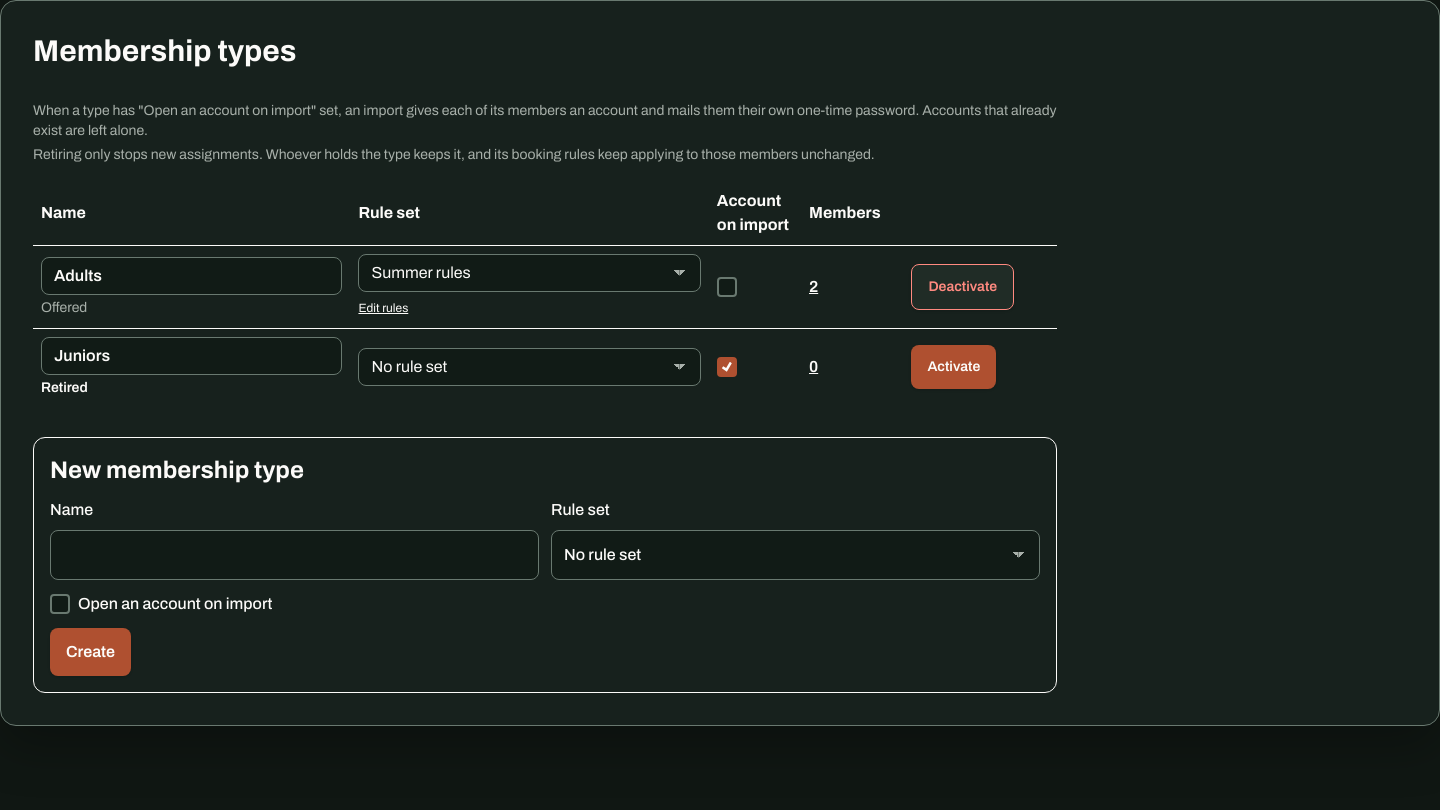
Test case: AdminMembershipTypesView › given a membership type, when following its holders link, then the roster shows only those holders
Click the link with test id "membership-type-holders-type-1" at (814, 286), box [809,278,818,295]
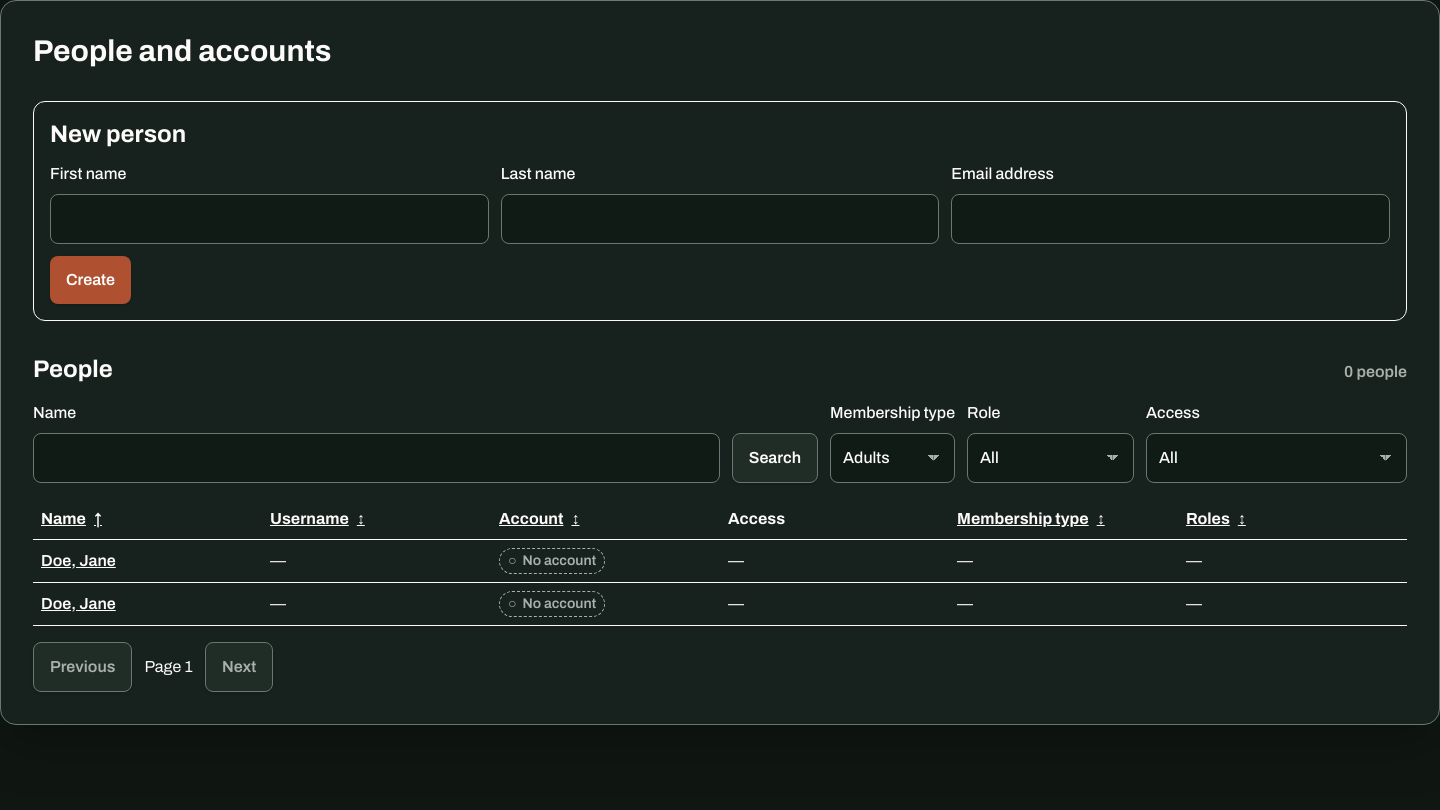
Check: the dropdown with test id "roster-filter" shows "Adults", box [830,433,955,483]
Check: the row with test id "roster-row-p1" is shown, box [33,540,1407,582]
Check: the row with test id "roster-row-p2" is shown, box [33,582,1407,626]
